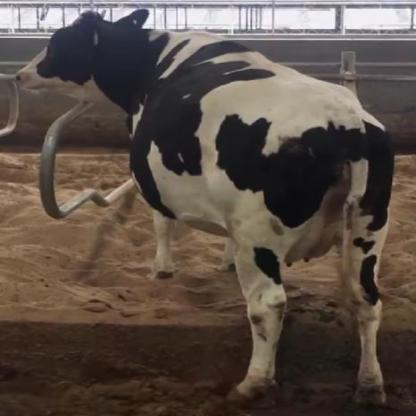cow: (18, 10, 394, 405)
